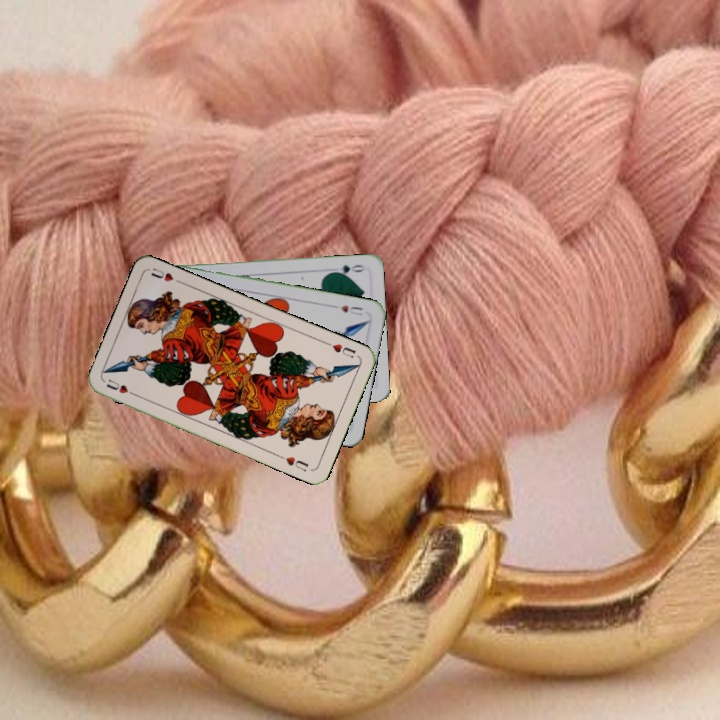GO: (327, 261, 367, 278)
HU: (102, 375, 140, 399), (322, 338, 358, 361), (336, 301, 365, 318)
